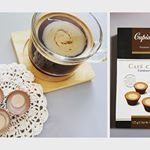cups: (20, 10, 104, 83)
